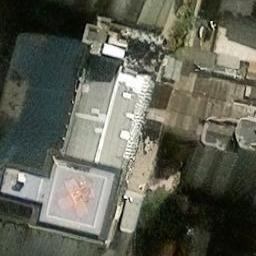heliponto: (47, 165, 106, 228)
